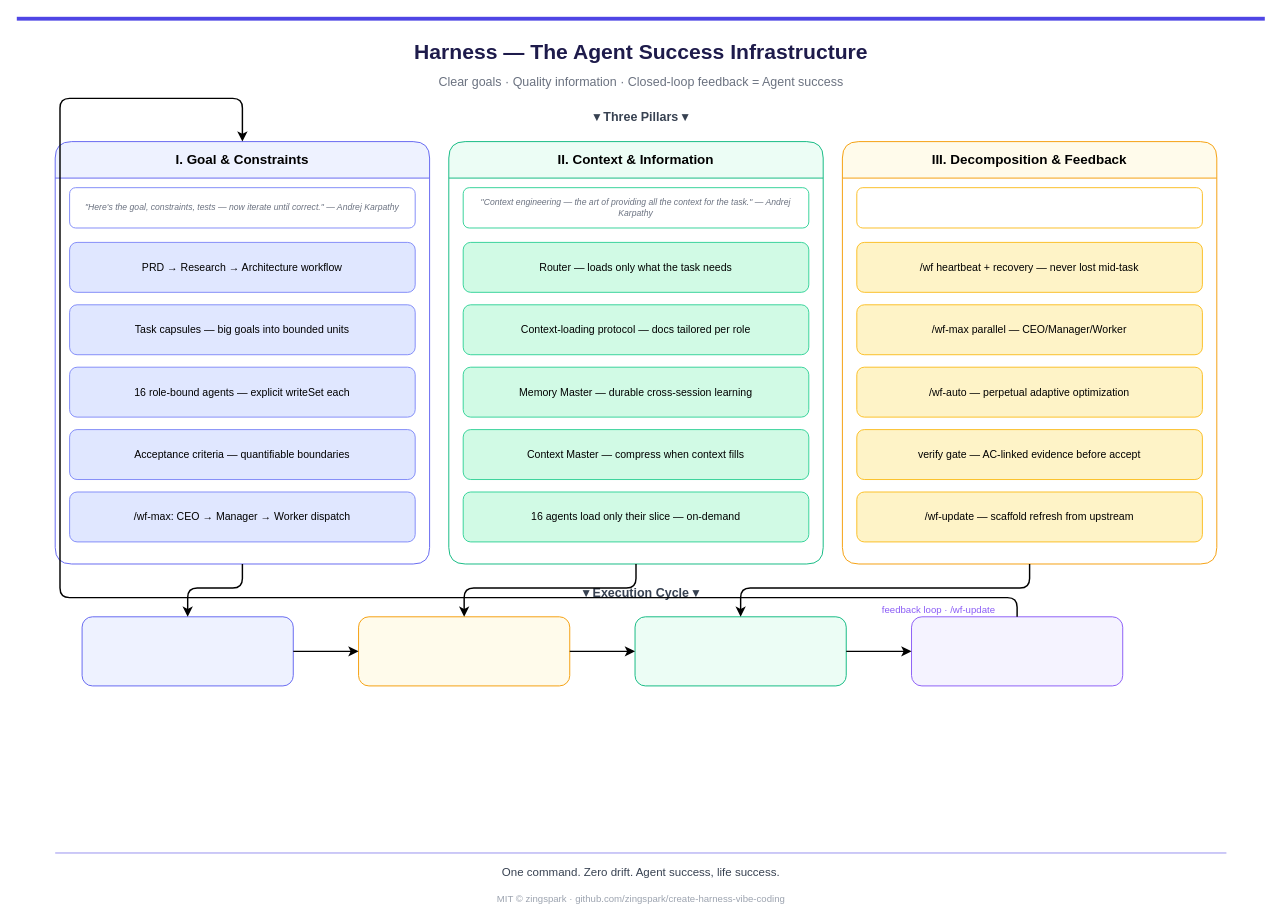
Image size: 1281x924. Some labels were removed from this diagram. The shapes that lost their labels are listed below. From the top down, each one's centre as x and y in pixels, then its label:
(1029,207): "You should be designing loops that prompt your agents." — Peter Steinberger
(187,651): Execute
(464,651): Verify
(740,651): Learn
(1017,651): Update
